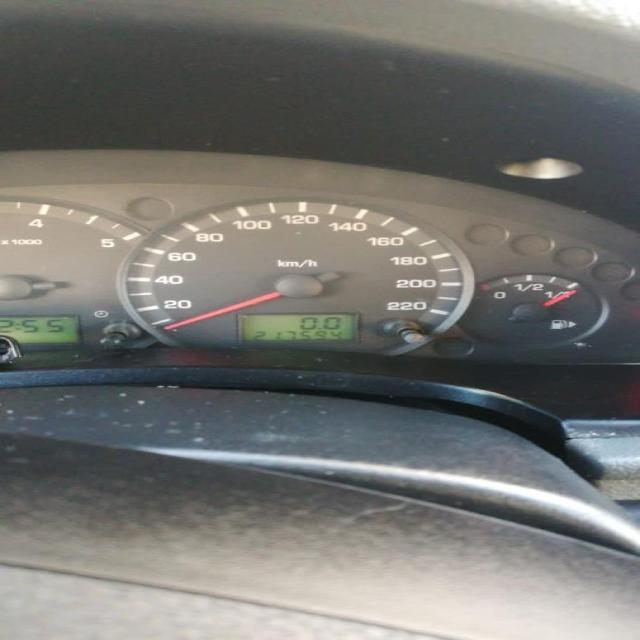odometer: (238, 313, 356, 341)
